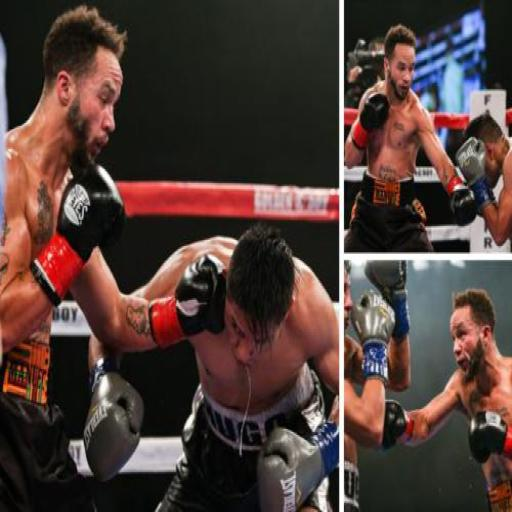boxing: (0, 40, 219, 512), (156, 192, 356, 512), (327, 272, 508, 512), (341, 18, 512, 260)
